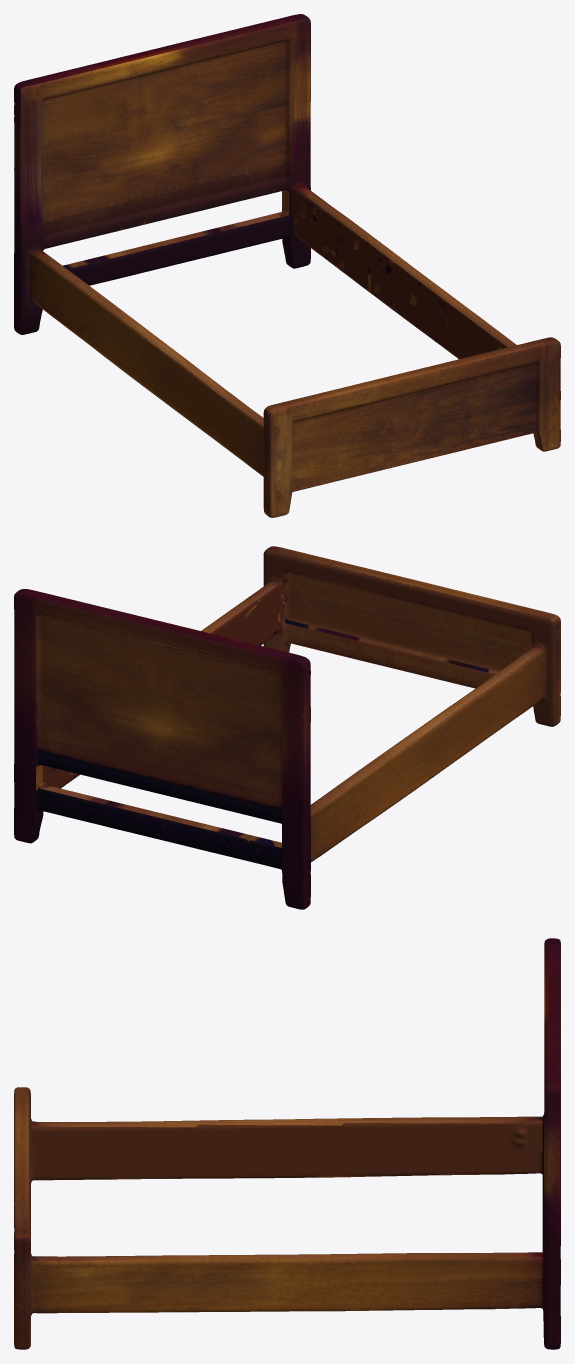
File: bed__bed#4.glb
The picture shows the model from 3 angles, top to bottom: view 1: azimuth 30°, elevation 25°; view 2: azimuth 150°, elevation 25°; view 3: azimuth 270°, elevation 25°; orthographic projection. The views are drawn at different scales.
Parts seen in each view (by area): view 1: tmpiycqn2gf.ply; view 2: tmpiycqn2gf.ply; view 3: tmpiycqn2gf.ply.
Boxes of the visible parts, box(x1,y1,x2,y2) form: tmpiycqn2gf.ply: box(14, 14, 560, 517); tmpiycqn2gf.ply: box(14, 546, 560, 909); tmpiycqn2gf.ply: box(14, 938, 560, 1349).
Size of the model in its own units: 1.3 by 1.06 by 1.99.
Materials: 1 (1 with a texture image).
